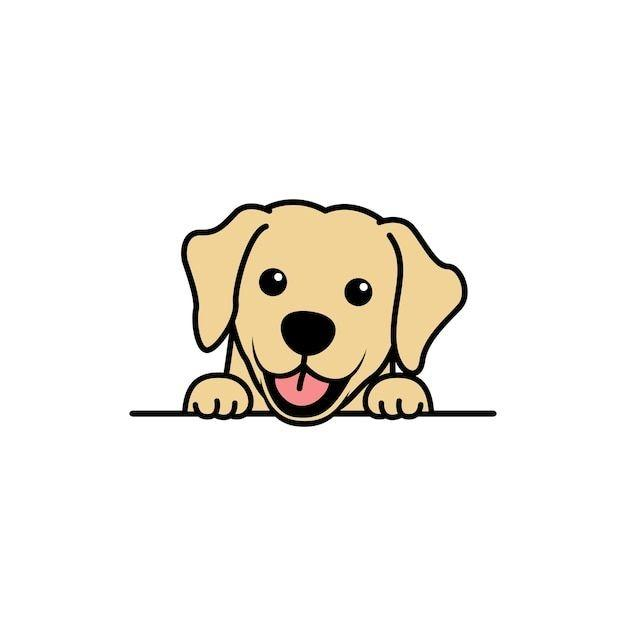puppy-dog: (182, 200, 467, 426)
